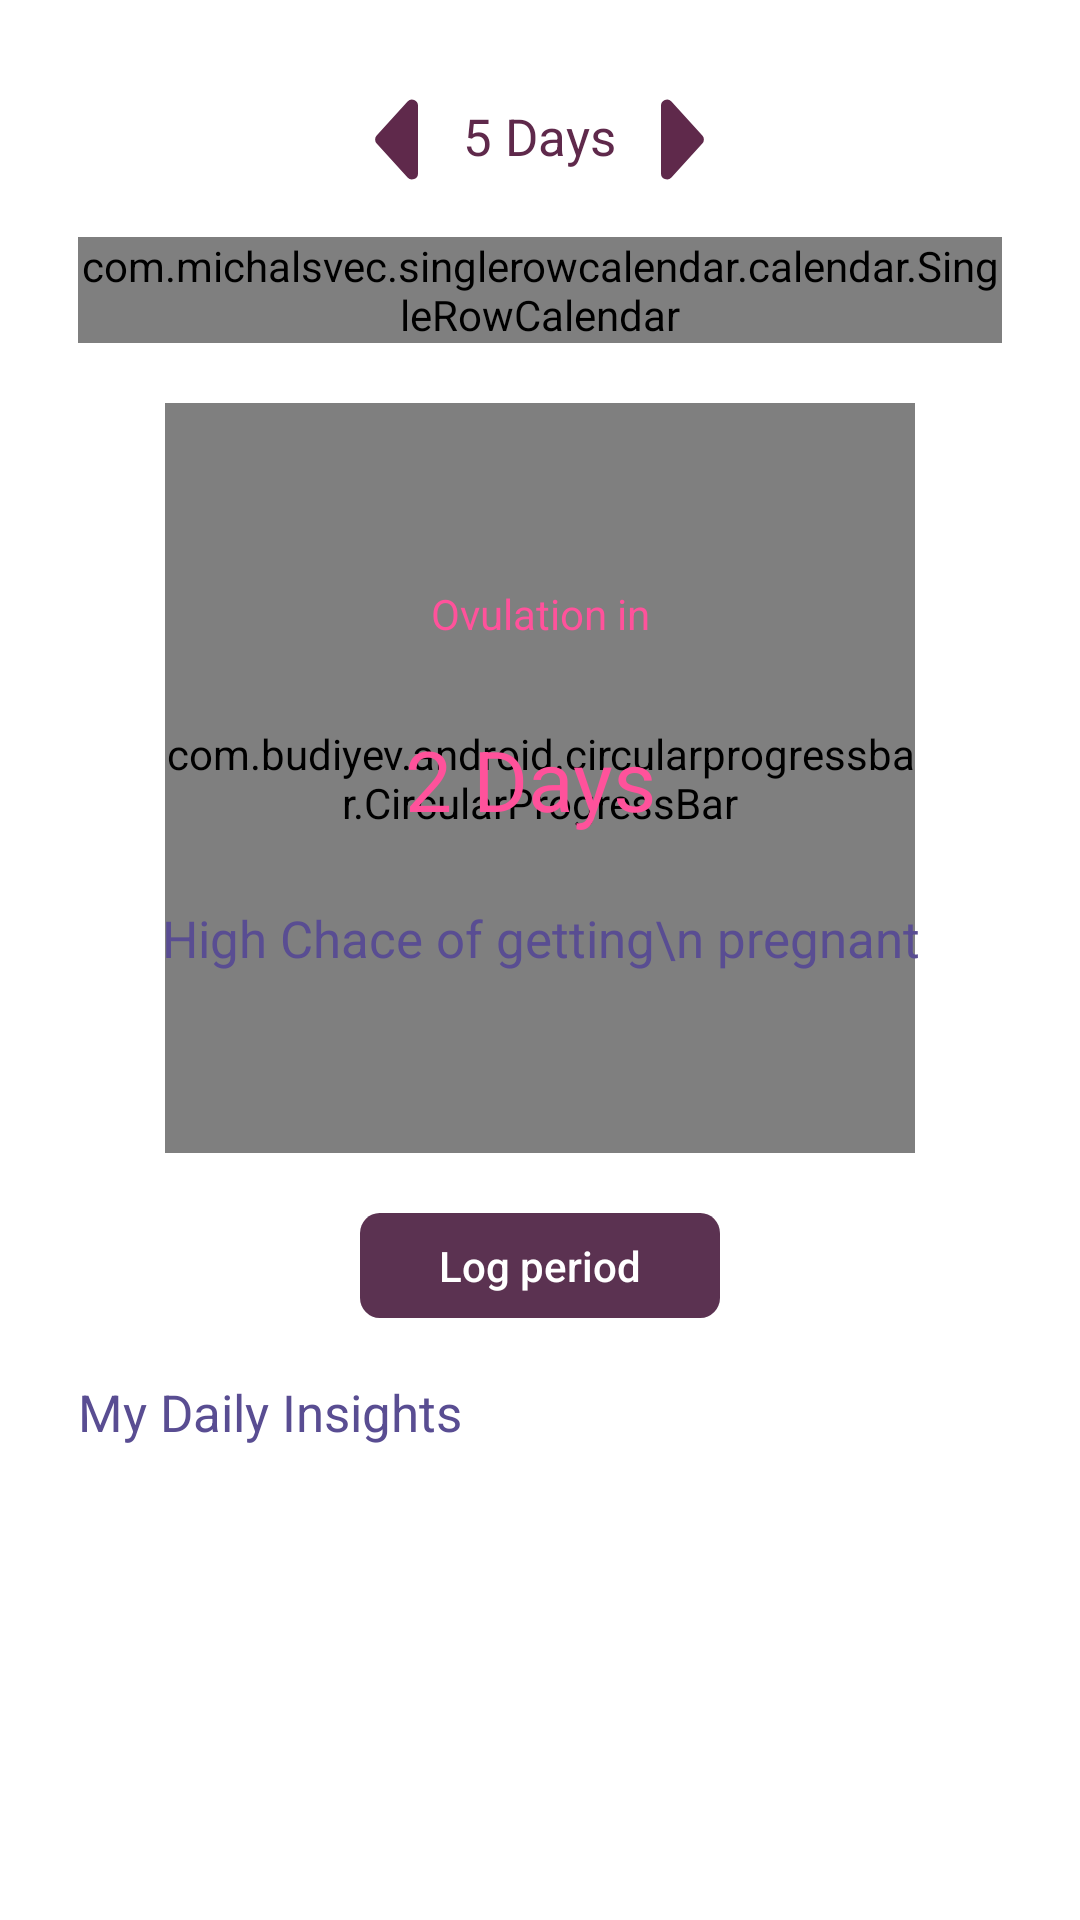

Screen size 1080 × 1920. Icon name, then its box in pixels as (x1, y1, x2, y2):
polygon: (375, 99, 418, 180), (661, 99, 704, 180)
